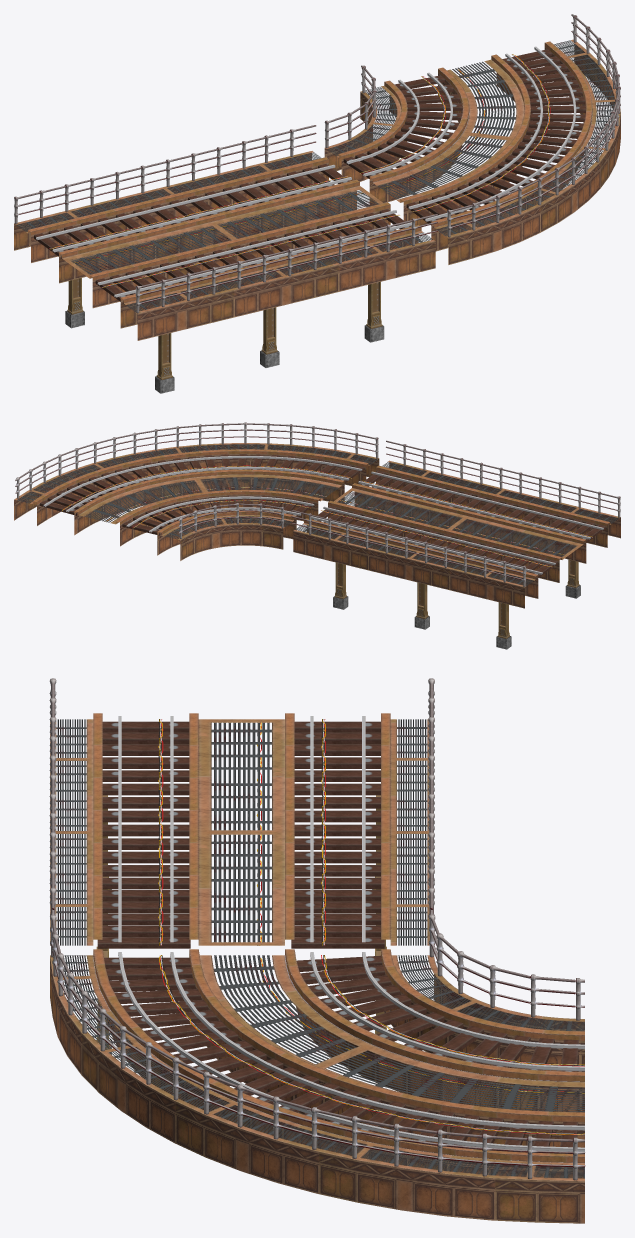
File: TrainTracks.fbx
3 renders of one model, top to bottom at view 1: azimuth 30°, elevation 25°; view 2: azimuth 150°, elevation 25°; view 3: azimuth 270°, elevation 25°, orthographic. The views are drawn at different scales.
Visible parts, largest first — view 1: LTracks_Straight, LTracks_Curve; view 2: LTracks_Straight, LTracks_Curve; view 3: LTracks_Curve, LTracks_Straight.
Boxes of the visible parts, bbox=[...] form: LTracks_Straight: bbox=[14, 125, 437, 393]; LTracks_Curve: bbox=[324, 14, 620, 264]; LTracks_Straight: bbox=[291, 440, 620, 649]; LTracks_Curve: bbox=[14, 422, 379, 560]; LTracks_Curve: bbox=[50, 914, 585, 1223]; LTracks_Straight: bbox=[49, 678, 434, 1054].
Bounding box in the file's own units: 24.35 × 4.83 × 11.93.
